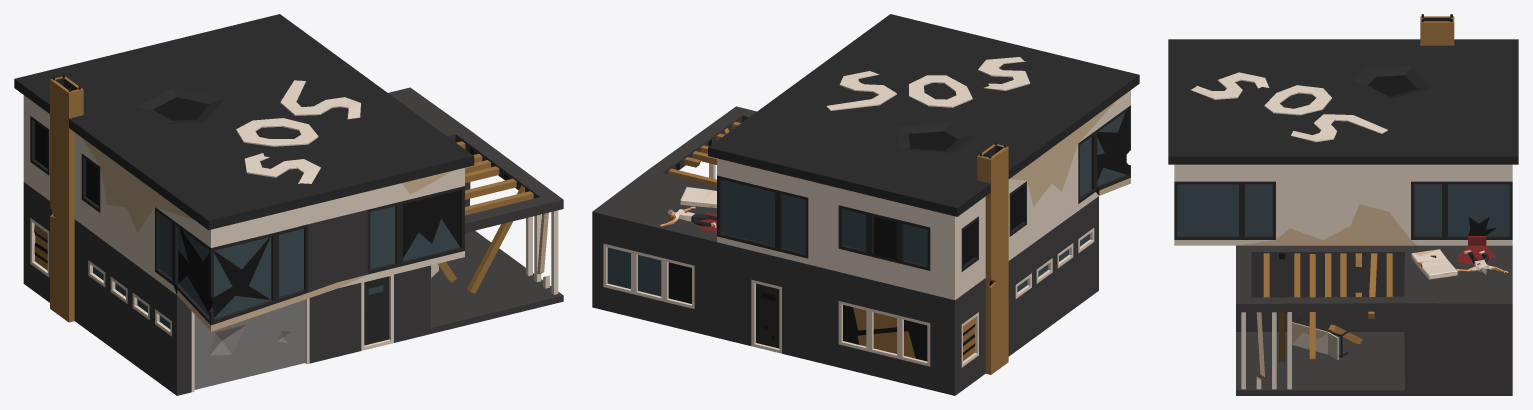
Rendered from apocalypse_building-house-modern-apocalypse-a.fbx.
3 views of the same model, side by side, from view 1: azimuth 30°, elevation 25°; view 2: azimuth 150°, elevation 25°; view 3: azimuth 270°, elevation 25° (orthographic). The views are drawn at different scales.
Visible parts, largest first — view 1: apocalypse_building_house_modern_apocalypse_a; view 2: apocalypse_building_house_modern_apocalypse_a; view 3: apocalypse_building_house_modern_apocalypse_a.
Boxes of the visible parts, x1=… form: apocalypse_building_house_modern_apocalypse_a: x1=14, y1=14, x2=563, y2=395; apocalypse_building_house_modern_apocalypse_a: x1=592, y1=14, x2=1139, y2=395; apocalypse_building_house_modern_apocalypse_a: x1=1168, y1=14, x2=1518, y2=395.
Size of the model in its own units: 200 by 113 by 171.
